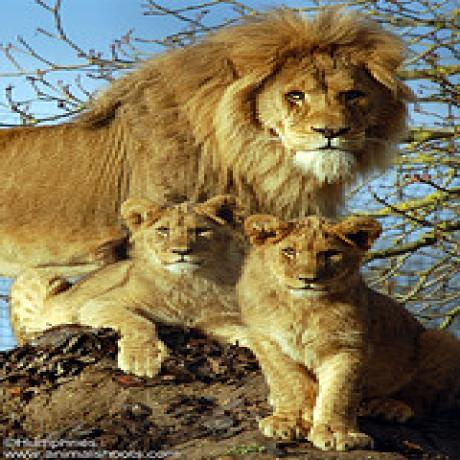Lion: (0, 9, 410, 203), (243, 209, 460, 449), (37, 191, 241, 377)
